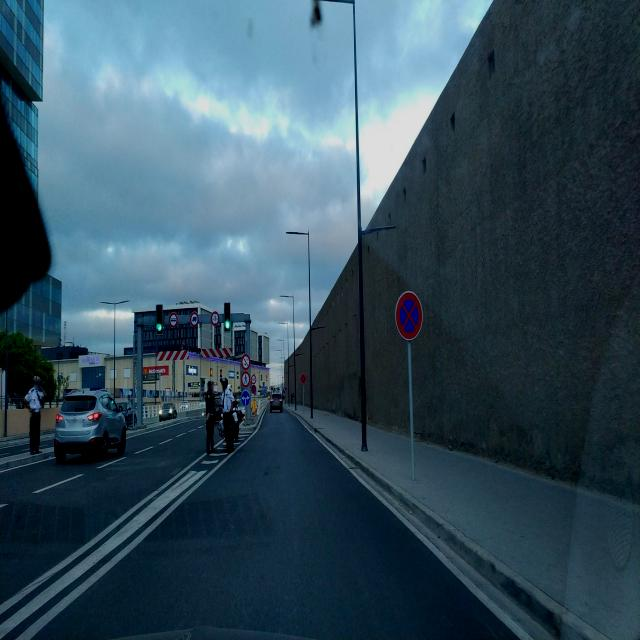car: (53, 387, 127, 463), (115, 399, 136, 424), (158, 398, 178, 422), (269, 389, 283, 413)
